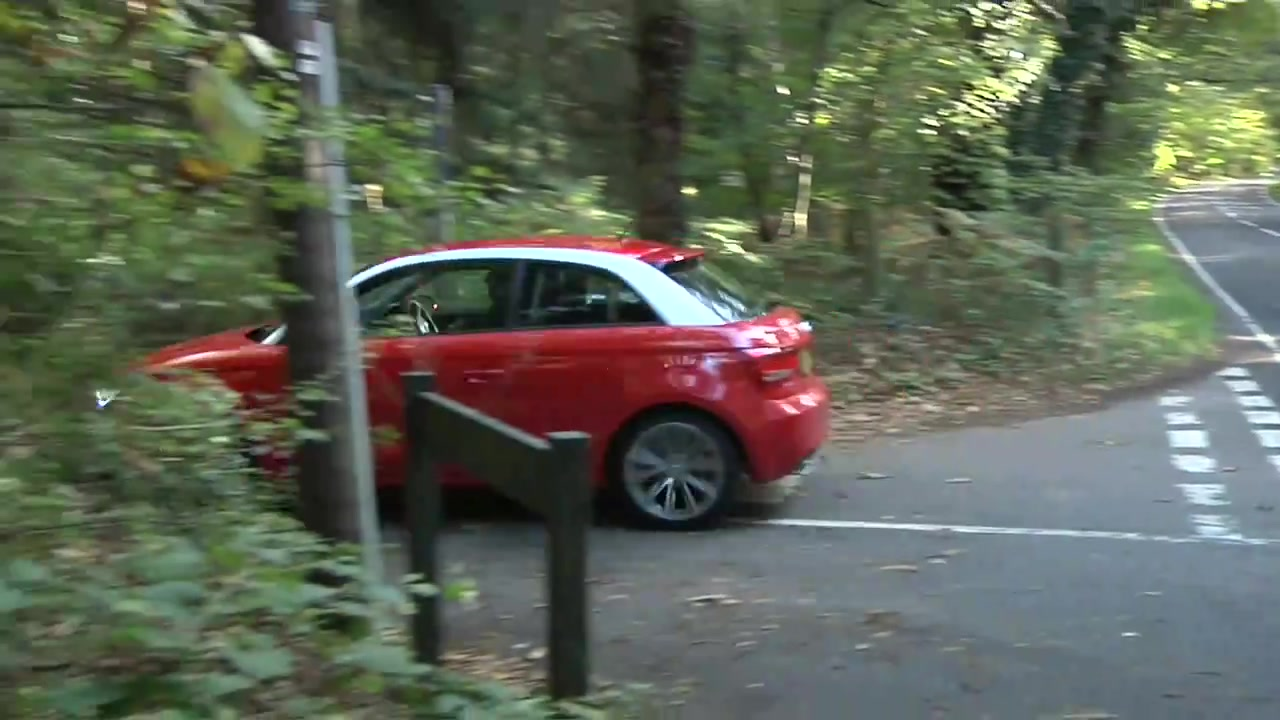car: (117, 234, 837, 524)
